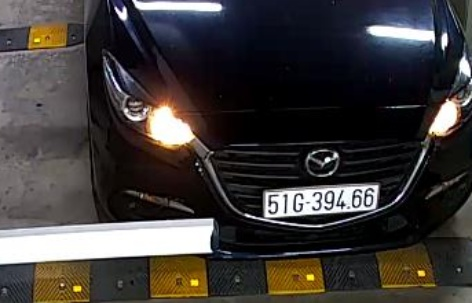plate: (260, 181, 378, 218)
